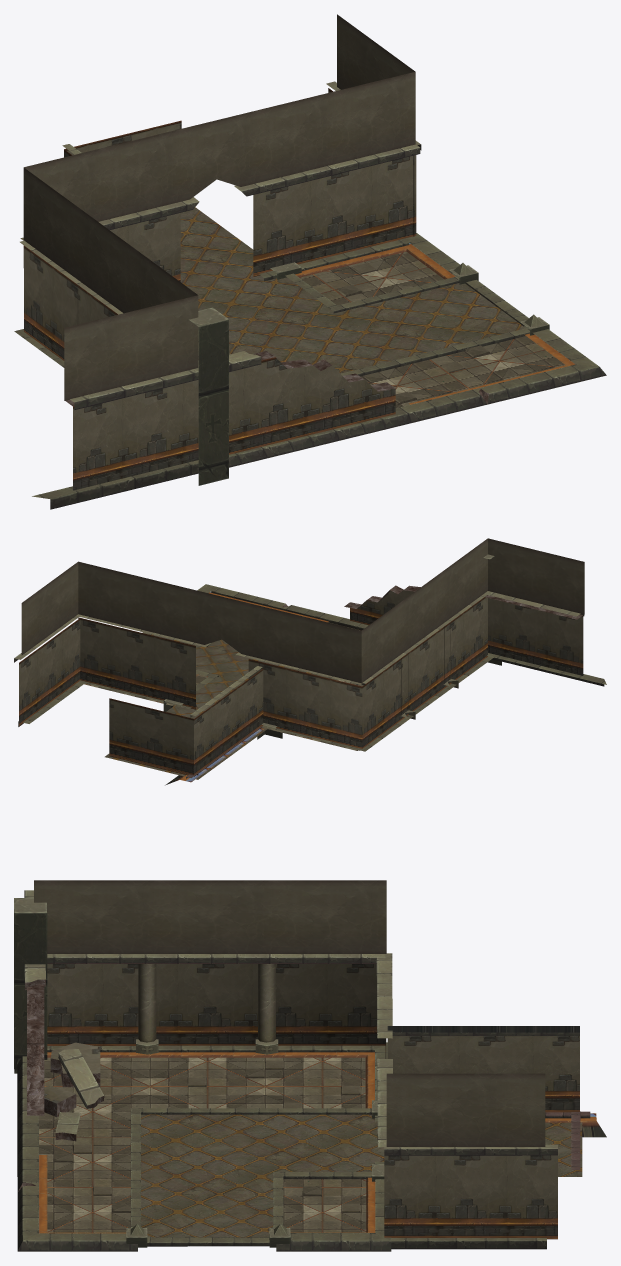
Rendered from terrain_section03_guanka1506.FBX.
3 views of the same model, one above another, from view 1: azimuth 30°, elevation 25°; view 2: azimuth 150°, elevation 25°; view 3: azimuth 270°, elevation 25° (orthographic). The views are drawn at different scales.
Parts seen in each view (by area): view 1: terrain_section03_guanka1506; view 2: terrain_section03_guanka1506; view 3: terrain_section03_guanka1506.
Boxes of the visible parts, x1,y1,x2,y2 form: terrain_section03_guanka1506: (14,14,606,509); terrain_section03_guanka1506: (14,538,606,785); terrain_section03_guanka1506: (14,880,606,1251).
Bounding box in the file's own units: 39.12 × 12.1 × 35.1.
